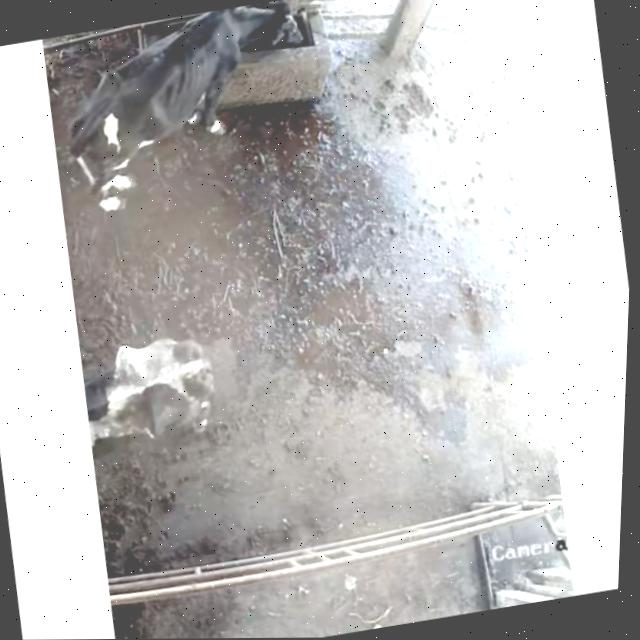drink: (172, 0, 327, 105)
